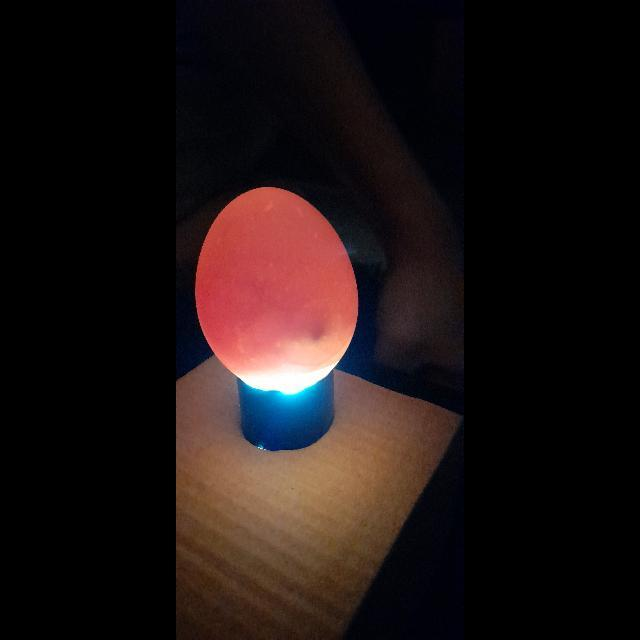Fertile: (192, 184, 362, 396)
